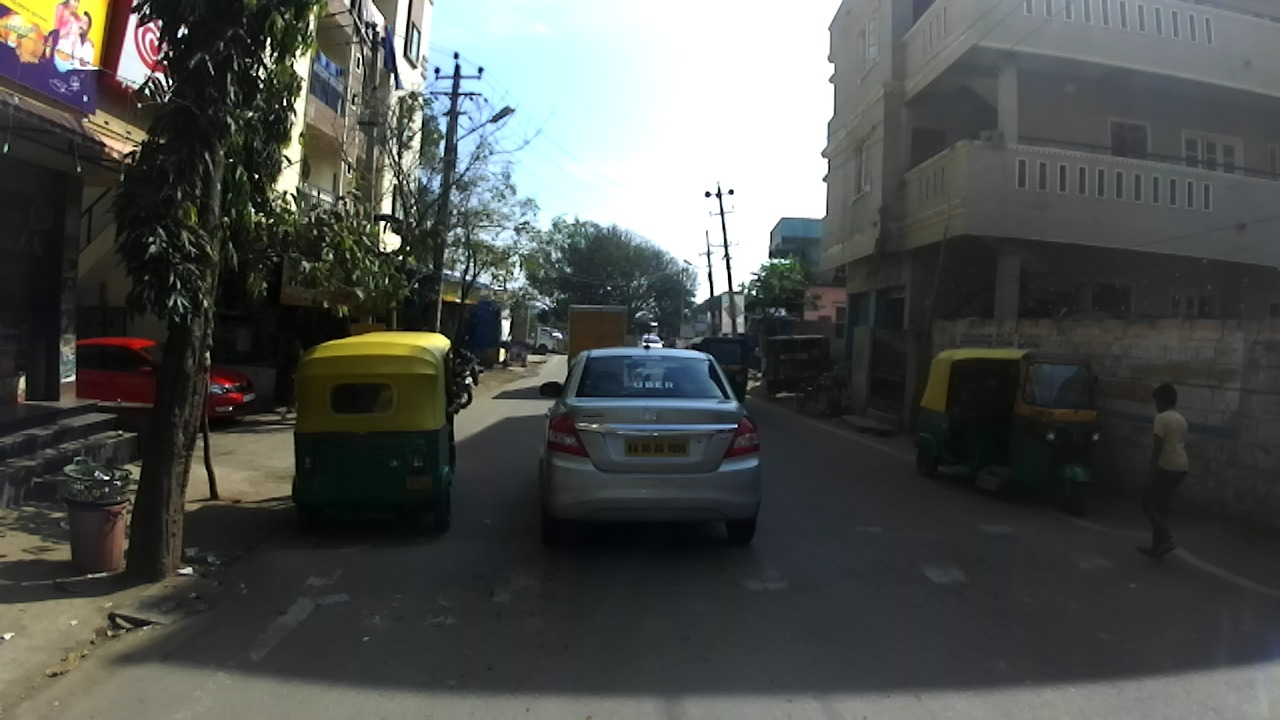autorickshaw: (292, 330, 463, 531), (912, 348, 1108, 516), (686, 336, 752, 405)
bicycle: (792, 369, 831, 418)
car: (538, 334, 762, 547), (78, 336, 257, 431), (637, 334, 665, 348), (551, 328, 564, 341)
motorcycle: (451, 344, 486, 386), (445, 360, 475, 408)
person: (1136, 382, 1190, 567)
truck: (567, 303, 628, 372), (528, 323, 564, 356)
vehicle fallback: (768, 335, 831, 400)
